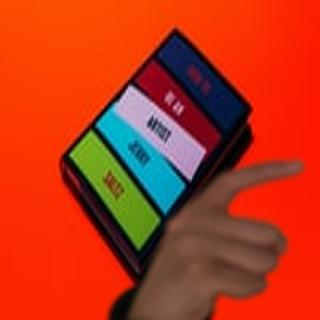WHY: (130, 149, 310, 320)
